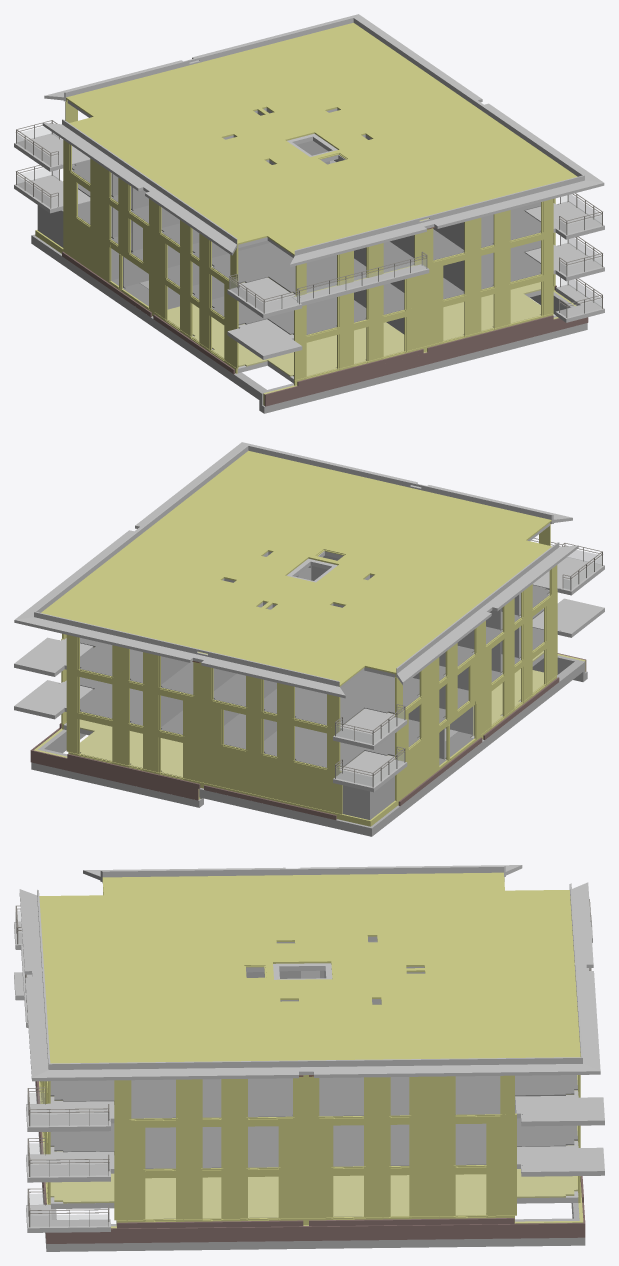
3 renders of one model, top to bottom at view 1: azimuth 30°, elevation 25°; view 2: azimuth 150°, elevation 25°; view 3: azimuth 270°, elevation 25°, orthographic. The views are drawn at different scales.
Size of the model in its own units: 27.17 by 11.11 by 31.85.
